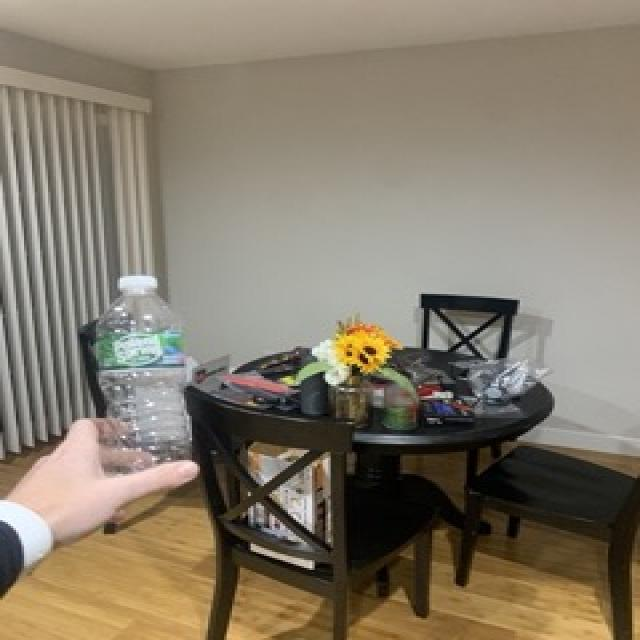water_bottle: (88, 270, 199, 486)
